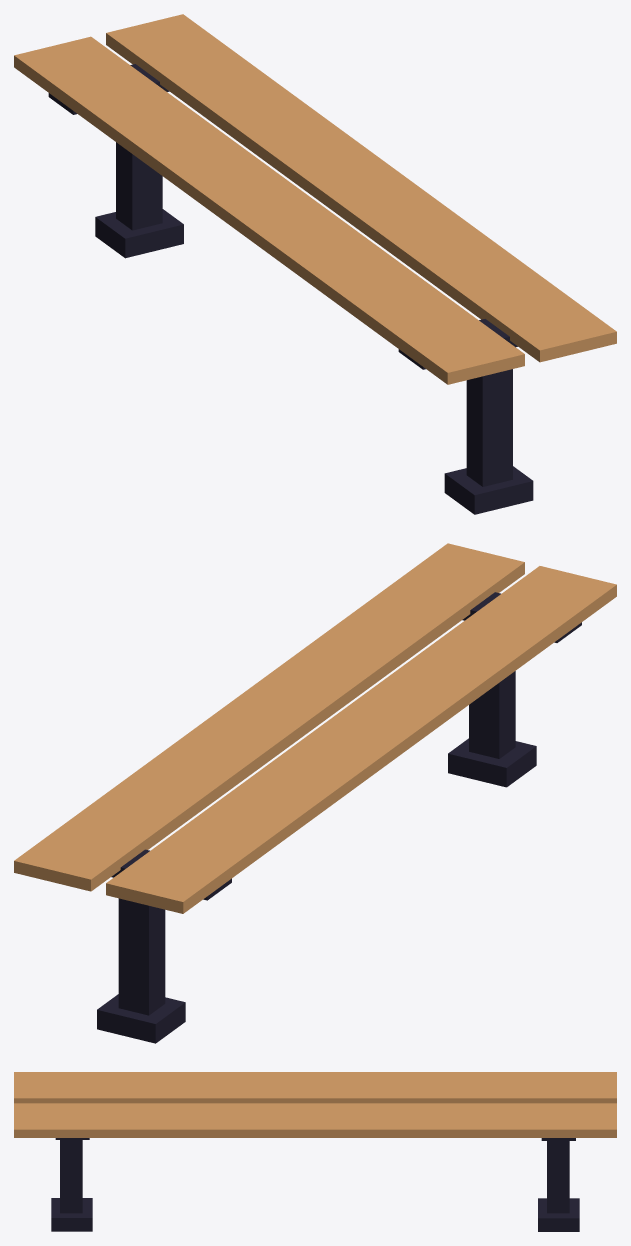
The model's file is BENCH.fbx.
3 renders of one model, top to bottom at view 1: azimuth 30°, elevation 25°; view 2: azimuth 150°, elevation 25°; view 3: azimuth 270°, elevation 25°, orthographic. The views are drawn at different scales.
Parts seen in each view (by area): view 1: Cube.002, Cube.003, Cube.007, Cube.005, Cube, Cube.001; view 2: Cube.002, Cube.003, Cube.005, Cube.007, Cube, Cube.001; view 3: Cube.003, Cube.002, Cube.007, Cube.005, Cube, Cube.001.
Part boxes in pixels (x1,y1,x2,y2): Cube.002: (14, 36, 524, 384); Cube.003: (106, 14, 616, 362); Cube.007: (466, 369, 512, 486); Cube.005: (116, 142, 162, 230); Cube: (444, 466, 533, 514); Cube.001: (95, 209, 183, 258); Cube.002: (106, 566, 616, 913); Cube.003: (14, 543, 524, 891); Cube.005: (118, 898, 165, 1015); Cube.007: (469, 671, 515, 758); Cube: (448, 738, 536, 787); Cube.001: (97, 994, 185, 1043); Cube.003: (14, 1103, 616, 1137); Cube.002: (14, 1072, 616, 1103); Cube.007: (60, 1140, 82, 1213); Cube.005: (547, 1141, 569, 1213); Cube: (51, 1198, 92, 1231); Cube.001: (538, 1198, 579, 1231).
Size of the model in its own units: 132 by 130 by 584.
Materials: 7 (7 with a texture image).
